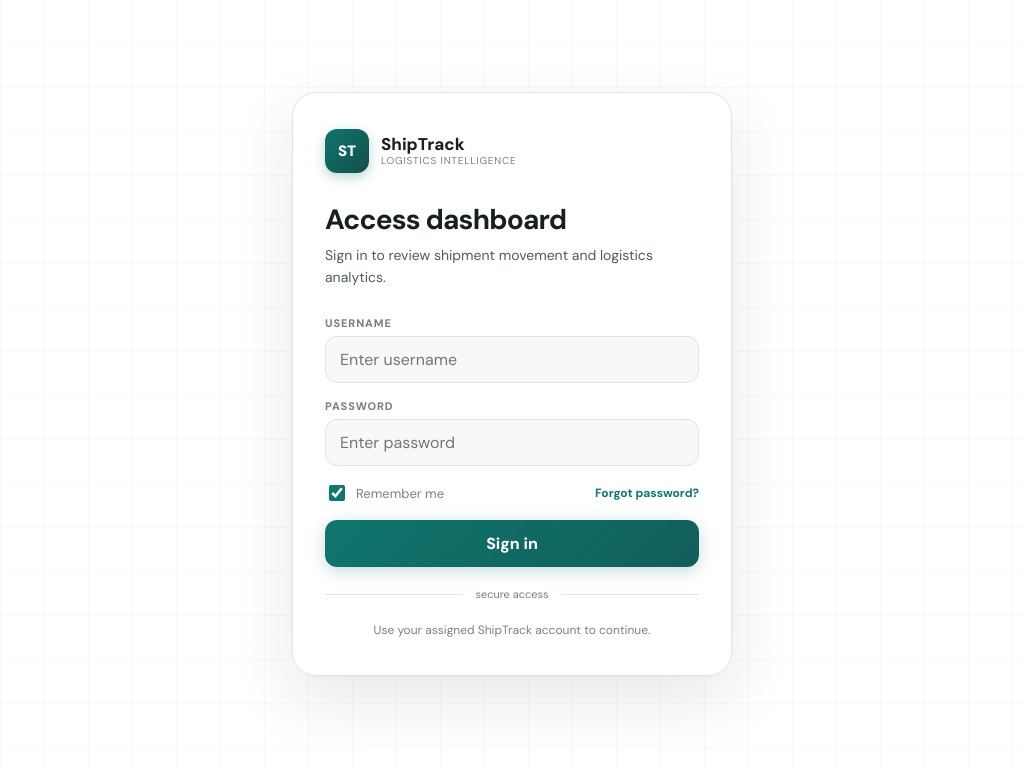
it: App state management › renders login after missing session and shows login errors
This screenshot has width=1024, height=768.
Expected: the heading "Access dashboard" is shown, [325,201,566,238]
Type "tester" into the field labelled "Username". click: [512, 360]
box: [325,336,699,383]
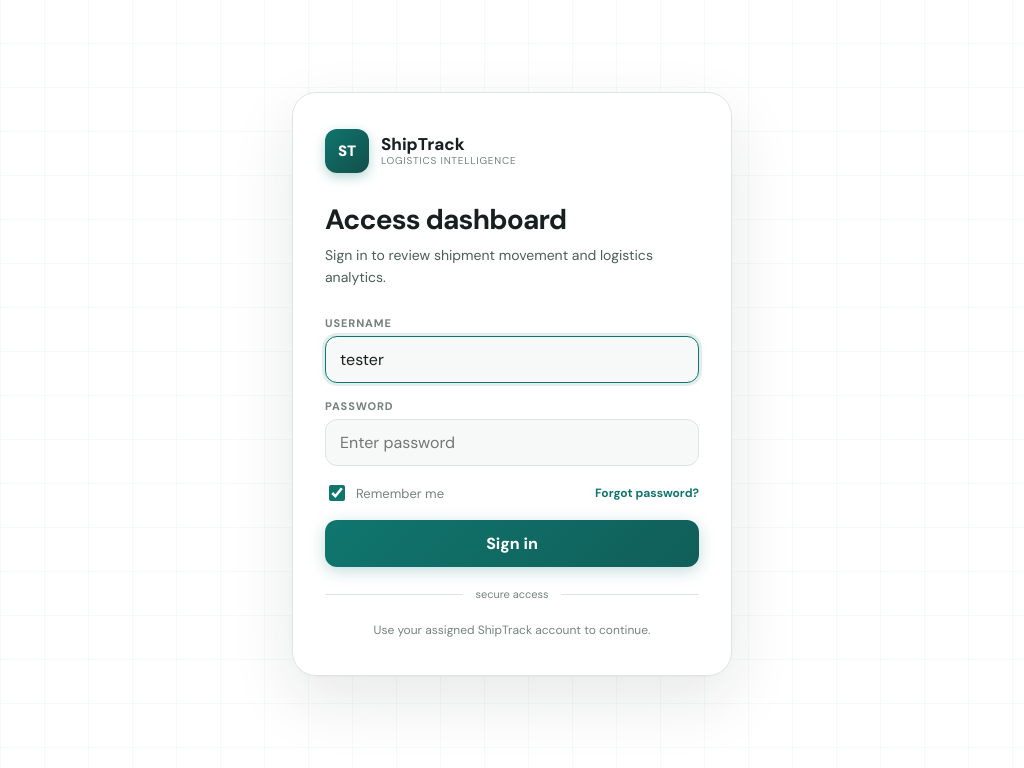
Type "bad-password" into the password field labelled "Password". click: [512, 443]
box: [325,419,699,466]
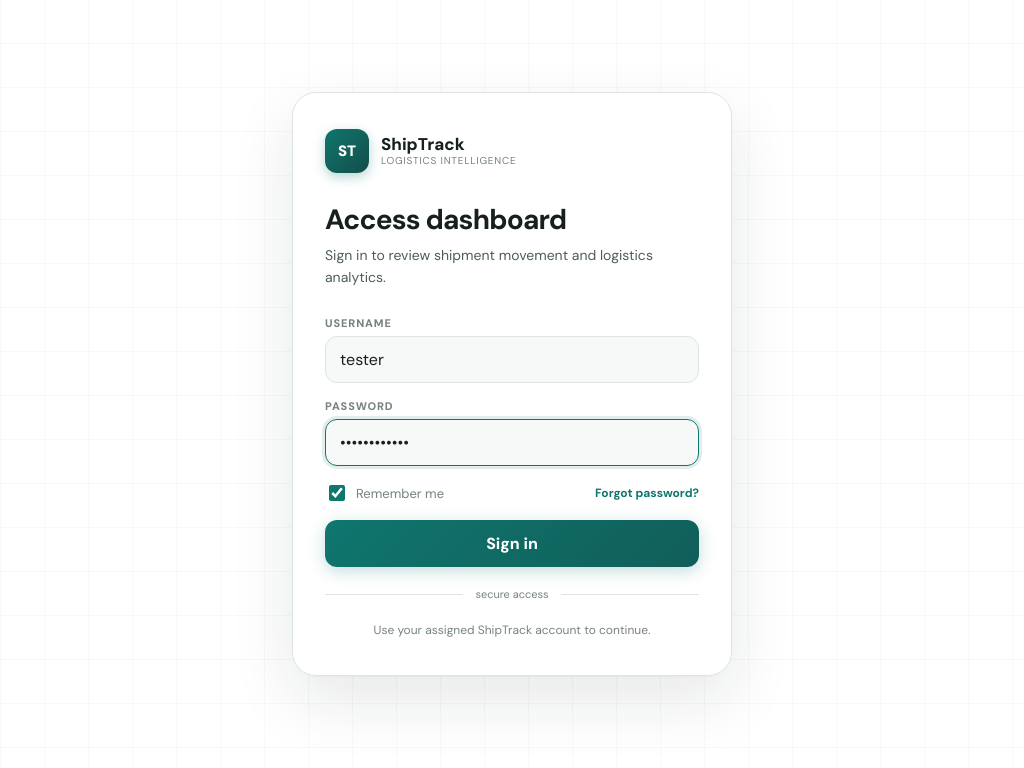
Click the button "Sign in". click: [512, 544]
box: [325,520,699,567]
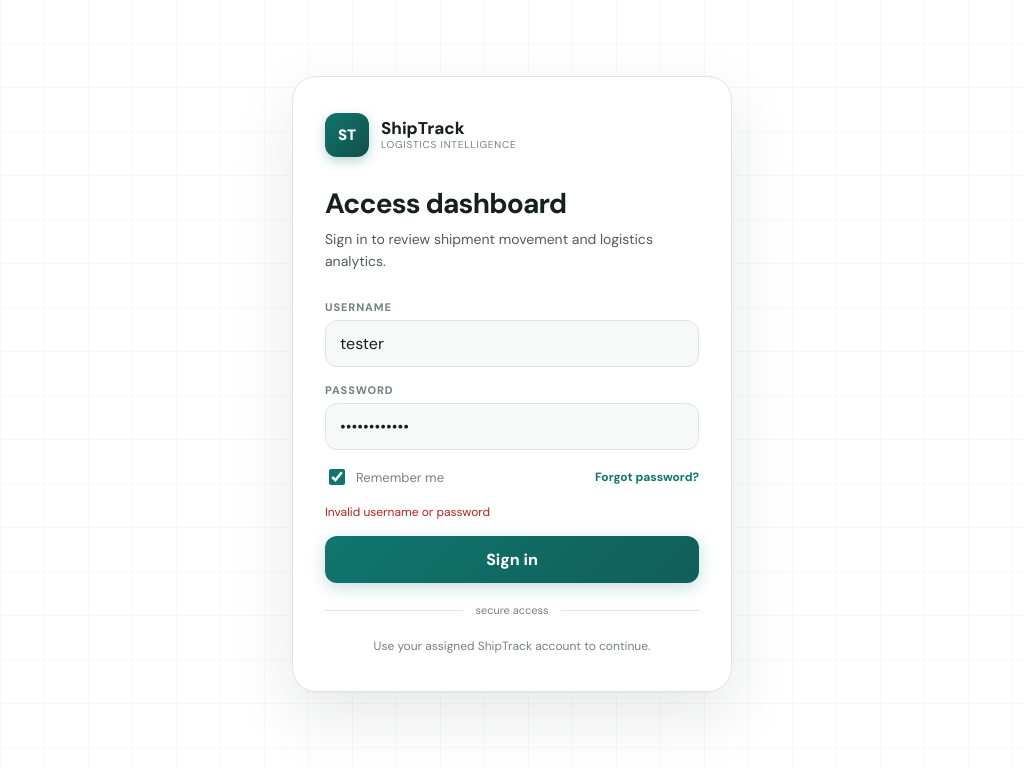
Expected: the text "Invalid username or password" is shown, [325,504,490,520]
